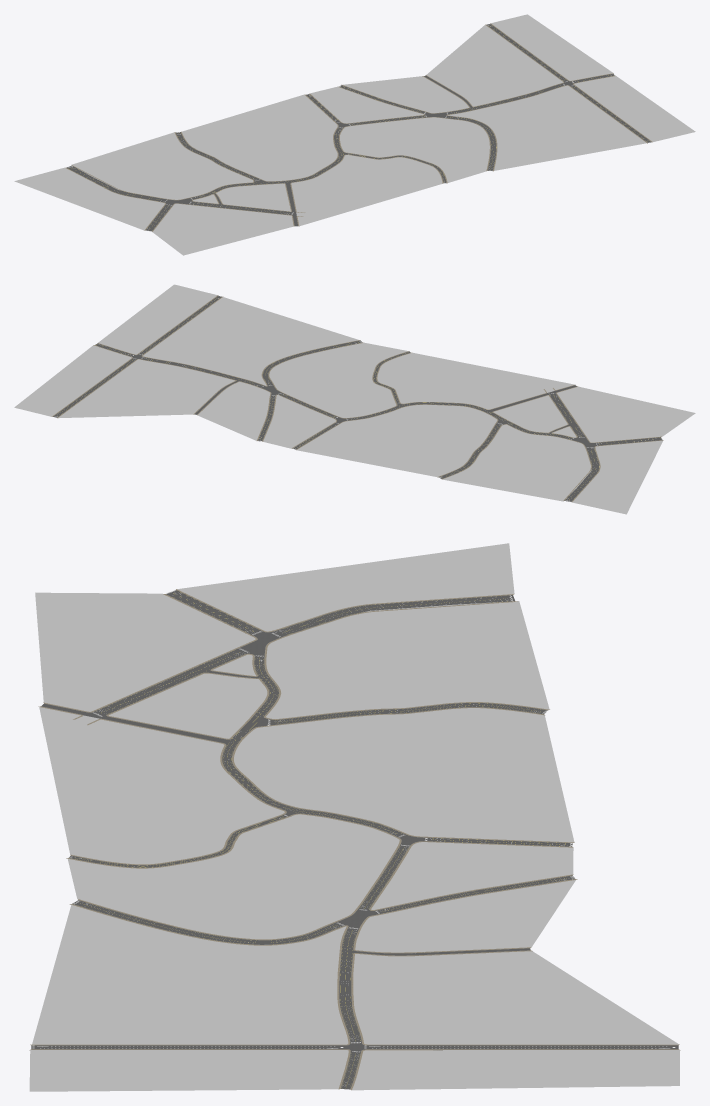
File: guangzhoulu.FBX
3 renders of one model, top to bottom at view 1: azimuth 30°, elevation 25°; view 2: azimuth 150°, elevation 25°; view 3: azimuth 270°, elevation 25°, orthographic. The views are drawn at different scales.
Parts seen in each view (by area): view 1: Road_002, road_001, Road_003; view 2: Road_002, road_001, Road_003; view 3: Road_002, road_001, Road_003, Road_004, Lane-White-012.
Part boxes in pixels (box(x1,y1,x2,y2)): Road_002: box(14, 14, 695, 255); road_001: box(66, 24, 651, 231); Road_003: box(65, 23, 652, 231); Road_002: box(14, 284, 695, 514); road_001: box(53, 295, 662, 501); Road_003: box(52, 295, 663, 501); Road_002: box(29, 543, 679, 1091); road_001: box(31, 590, 678, 1089); Road_003: box(29, 589, 680, 1090); Road_004: box(31, 590, 572, 1087); Lane-White-012: box(32, 590, 675, 1085).
Size of the model in its own units: 317744 by 20 by 159423.
